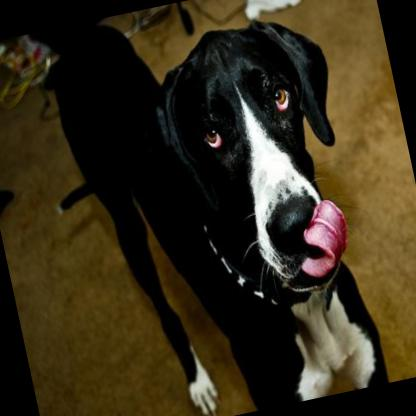Great_Dane: (26, 0, 393, 416)
